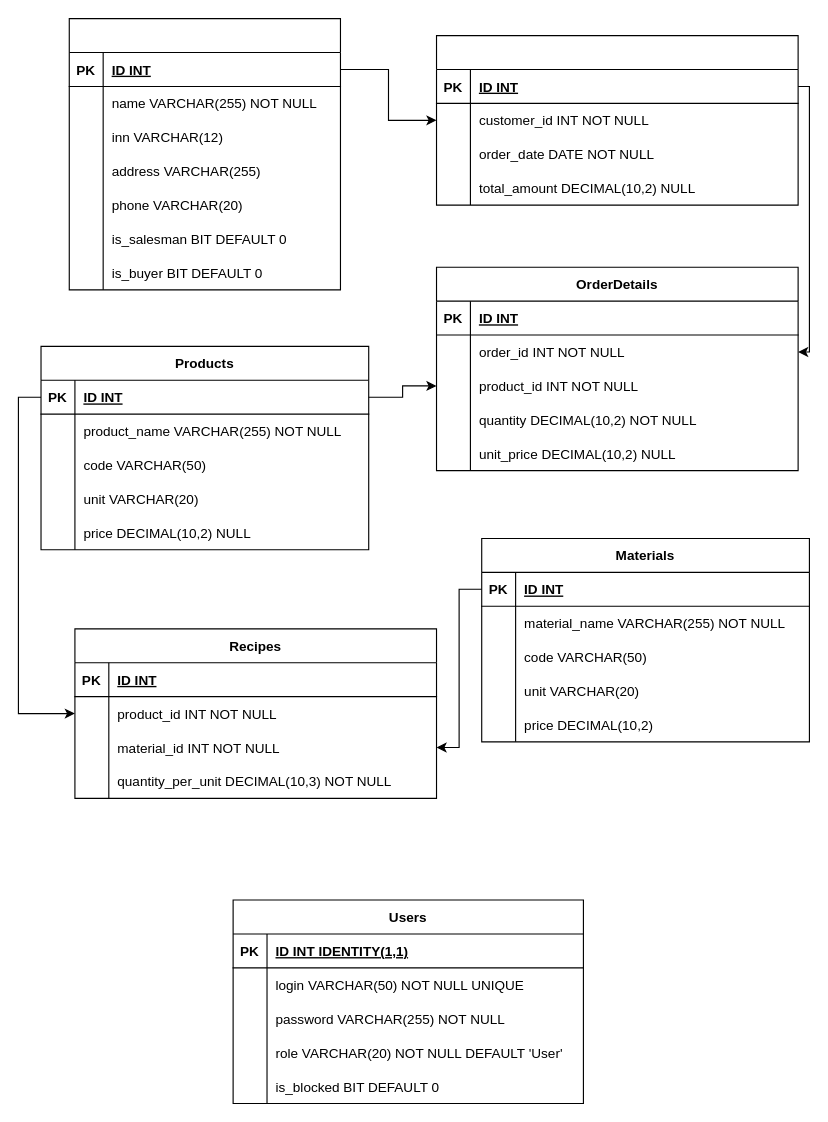
Some shapes in this 828 by 1122 pixel diagram are drawn without their labels. The shapes that lost their labels are listed below. From the top down, each one's box as (x1, y1, x2, y2) in pixels, then its label:
(435, 34, 798, 205): Orders
(68, 18, 340, 290): Customers
